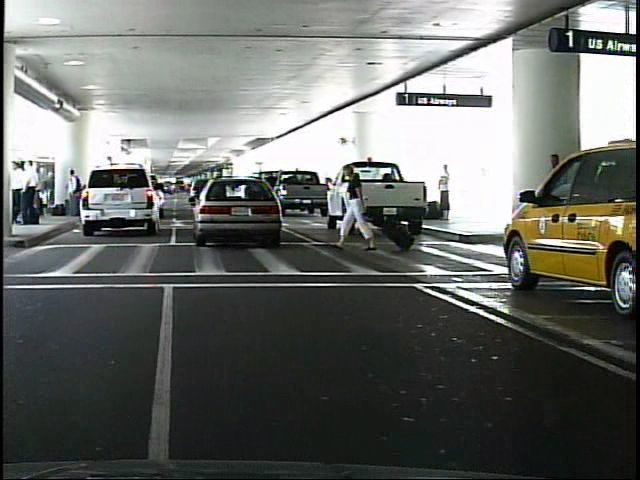person: (341, 161, 379, 254), (434, 160, 458, 220), (27, 159, 43, 227), (69, 165, 85, 221), (13, 160, 26, 222)
